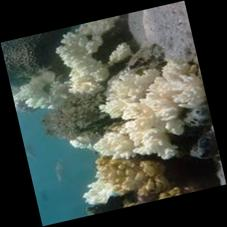bleached_corals: (24, 4, 220, 185)
